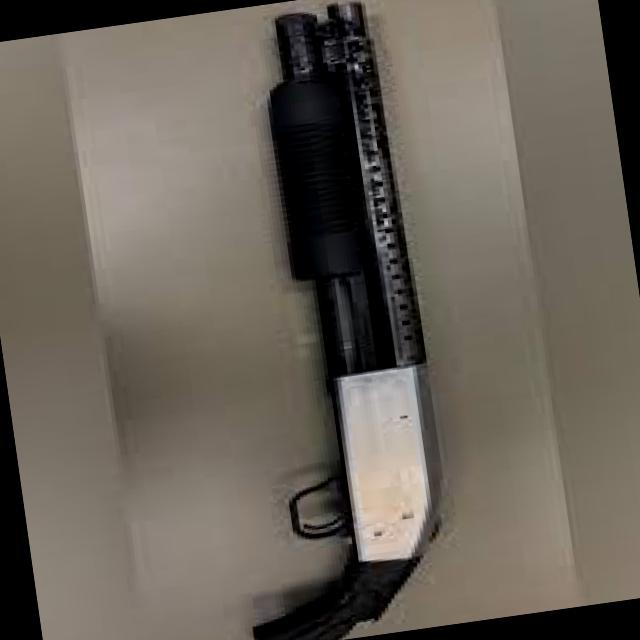long weapon: (213, 0, 476, 640)
